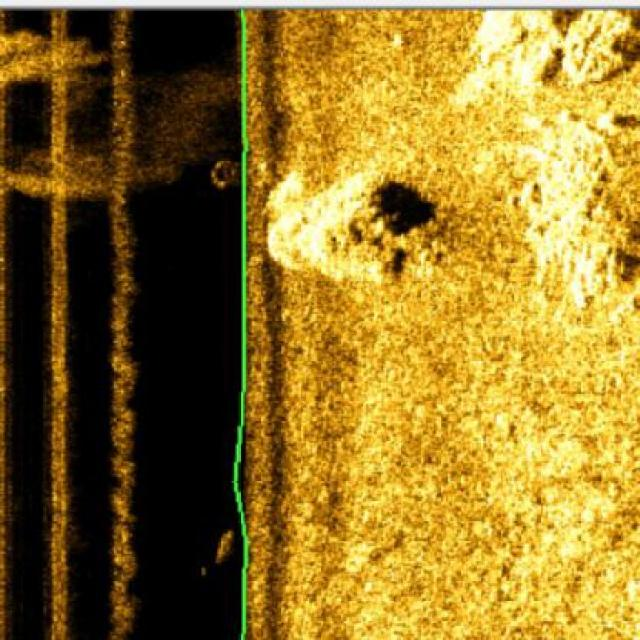bedrock group: (264, 0, 639, 320)
